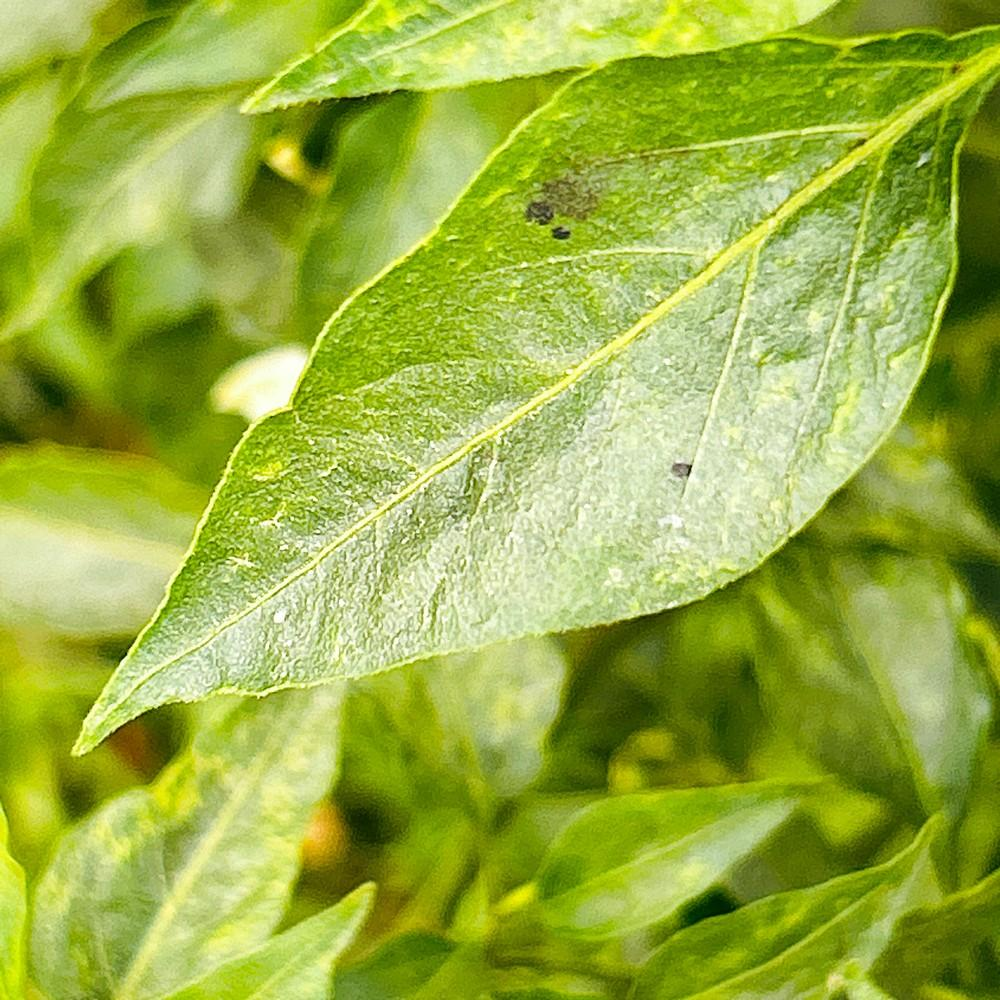Daun Cabai Sehat: (68, 19, 998, 759)
